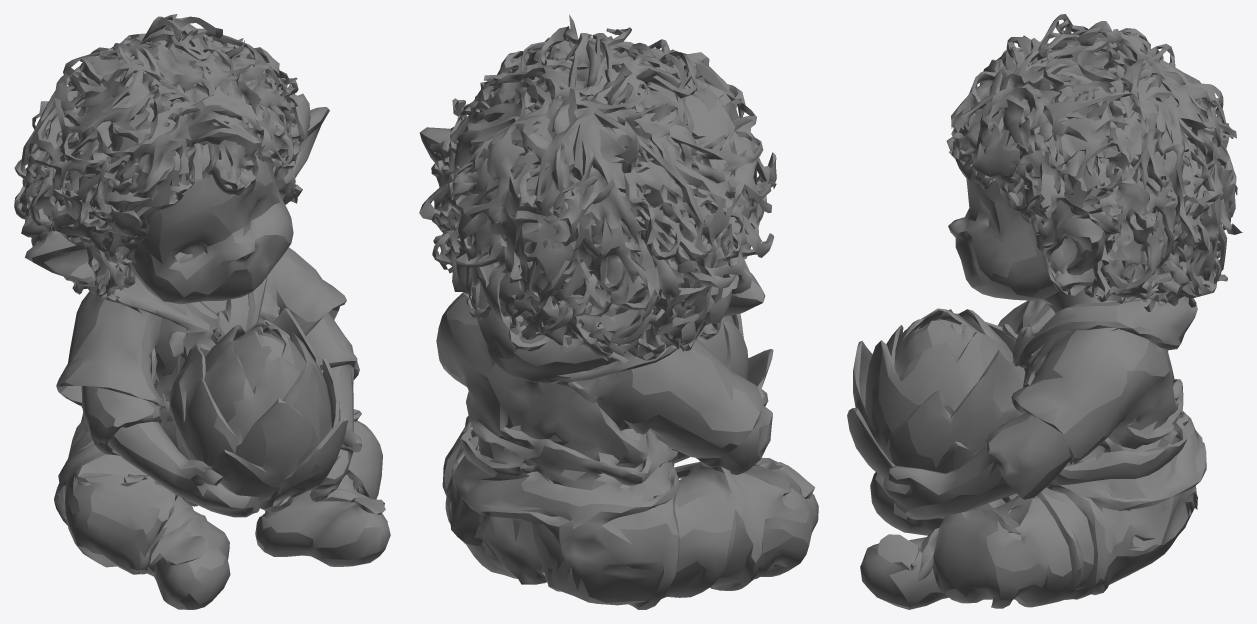
File: completion_sprite_1.glb
3 views of the same model, side by side, from view 1: azimuth 30°, elevation 25°; view 2: azimuth 150°, elevation 25°; view 3: azimuth 270°, elevation 25° (orthographic). The views are drawn at different scales.
Visible parts, largest first — view 1: geometry_0; view 2: geometry_0; view 3: geometry_0.
Part boxes in pixels (x1,y1,x2,y2): geometry_0: (14, 14, 390, 609); geometry_0: (419, 14, 818, 609); geometry_0: (847, 14, 1242, 609).
Size of the model in its own units: 0.6314 by 0.9912 by 0.6598.
1 material, 1 textured.
